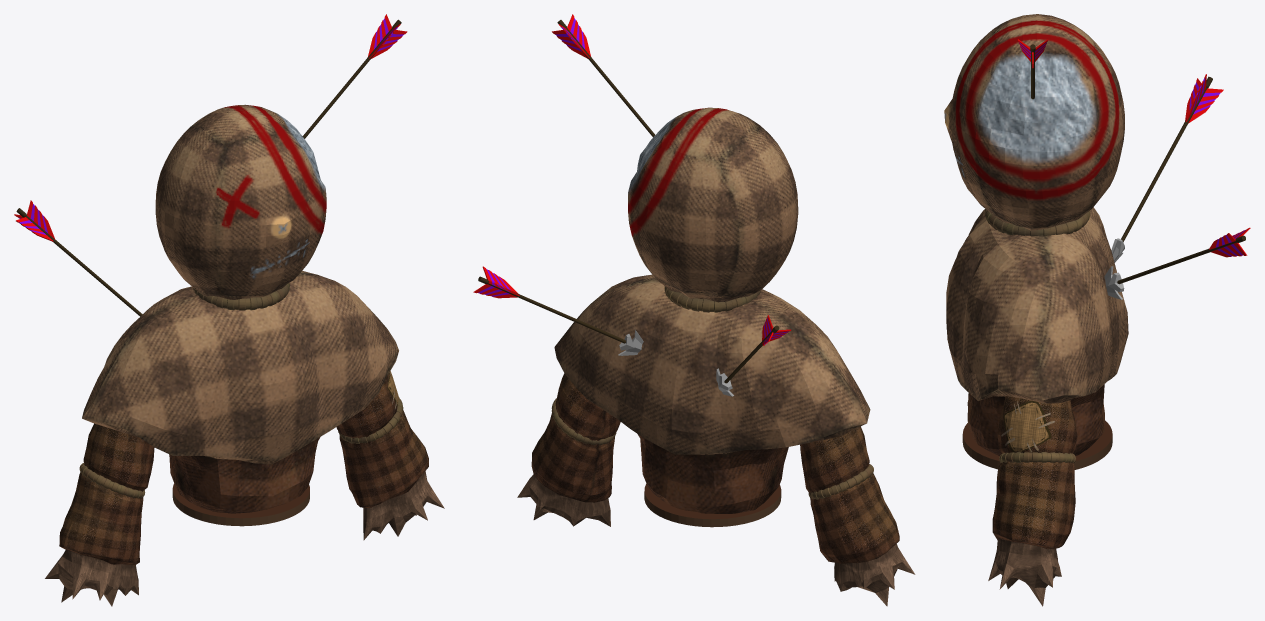
Rendered from DummyTop.glb.
3 renders of one model, left to right at view 1: azimuth 30°, elevation 25°; view 2: azimuth 150°, elevation 25°; view 3: azimuth 270°, elevation 25°, orthographic. The views are drawn at different scales.
Parts seen in each view (by area): view 1: RetopoCloak, RetopoHead, RetopoHand, Cylinder.008, Arrow.002, Arrow, Torus.002, Torus.001; view 2: RetopoCloak, RetopoHead, RetopoHand, Cylinder.008, Arrow.001, Arrow, Torus.002, Torus.001, Arrow.002; view 3: RetopoCloak, RetopoHead, RetopoHand, Arrow.002, Arrow.001, Cylinder.008, Torus.001, Torus.002, Arrow.
Part boxes in pixels (left/top/right/bottom): RetopoCloak: left=82, top=270, right=398, bottom=513; RetopoHead: left=155, top=104, right=326, bottom=299; RetopoHand: left=45, top=371, right=444, bottom=606; Cylinder.008: left=172, top=483, right=309, bottom=526; Arrow.002: left=14, top=200, right=142, bottom=316; Arrow: left=302, top=14, right=407, bottom=138; Torus.002: left=79, top=397, right=403, bottom=498; Torus.001: left=193, top=283, right=289, bottom=310; RetopoCloak: left=554, top=274, right=870, bottom=513; RetopoHead: left=628, top=107, right=798, bottom=302; RetopoHand: left=517, top=373, right=915, bottom=606; Cylinder.008: left=644, top=484, right=781, bottom=527; Arrow.001: left=473, top=266, right=643, bottom=355; Arrow: left=552, top=14, right=654, bottom=137; Torus.002: left=551, top=398, right=873, bottom=499; Torus.001: left=664, top=286, right=760, bottom=312; Arrow.002: left=716, top=315, right=791, bottom=396; RetopoCloak: left=946, top=207, right=1128, bottom=455; RetopoHead: left=944, top=14, right=1124, bottom=230; RetopoHand: left=988, top=396, right=1077, bottom=606; Arrow.002: left=1111, top=74, right=1223, bottom=262; Arrow.001: left=1104, top=227, right=1250, bottom=299; Cylinder.008: left=962, top=420, right=1112, bottom=469; Torus.001: left=985, top=209, right=1090, bottom=236; Torus.002: left=999, top=452, right=1076, bottom=462; Arrow: left=1017, top=39, right=1047, bottom=99.
Size of the model in its own units: 1.15 by 1.47 by 0.7382.
Materials: 5 (1 with a texture image).
